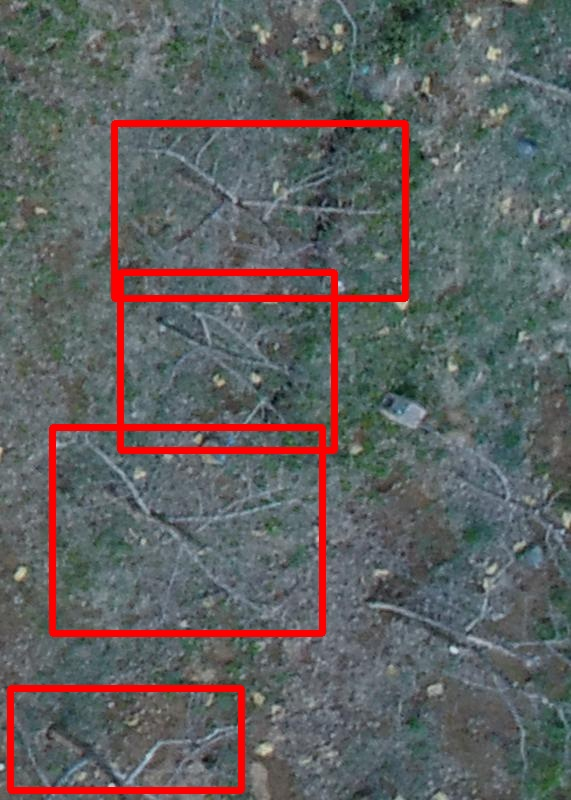apple: (52, 427, 322, 633), (114, 123, 405, 298), (120, 272, 334, 450), (10, 688, 241, 790)
